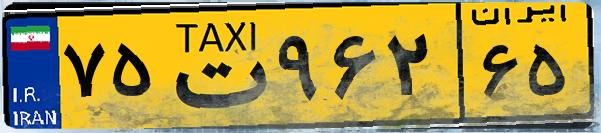2: (385, 28, 445, 110)
5: (525, 38, 570, 115), (110, 28, 158, 98)
6: (330, 28, 385, 110), (475, 38, 525, 113)
7: (57, 26, 110, 100)
9: (270, 28, 330, 110)
ت: (158, 12, 270, 120)
